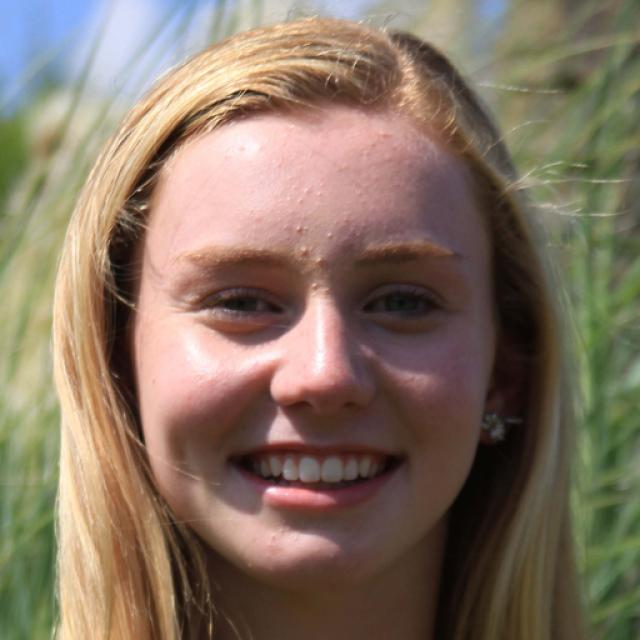Acne: (290, 183, 314, 210), (297, 279, 325, 300), (310, 248, 330, 274), (316, 229, 340, 247), (370, 127, 396, 142), (321, 279, 337, 303), (288, 219, 308, 238), (323, 376, 344, 394), (290, 244, 313, 260), (313, 184, 330, 201)
